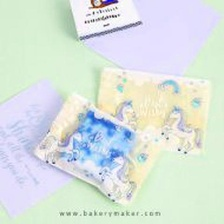snack: (26, 86, 170, 210), (87, 61, 215, 162)
